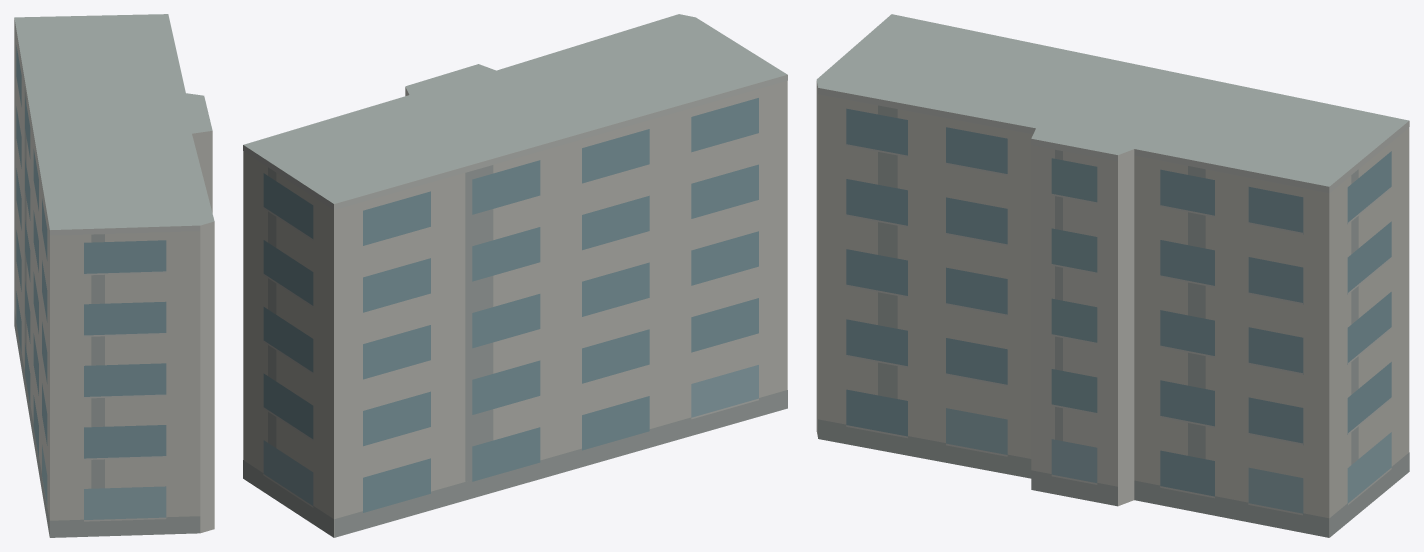
File: survey-upis-32911887.glb
3 views of the same model, side by side, from view 1: azimuth 30°, elevation 25°; view 2: azimuth 150°, elevation 25°; view 3: azimuth 270°, elevation 25° (orthographic). The views are drawn at different scales.
Parts seen in each view (by area): view 1: survey-upis-32911887.tmp; view 2: survey-upis-32911887.tmp; view 3: survey-upis-32911887.tmp.
Boxes of the visible parts, x1,y1,x2,y2 form: survey-upis-32911887.tmp: (14,14,214,537); survey-upis-32911887.tmp: (243,14,787,537); survey-upis-32911887.tmp: (816,14,1409,537).
Size of the model in its own units: 13.94 by 13.2 by 20.21.
